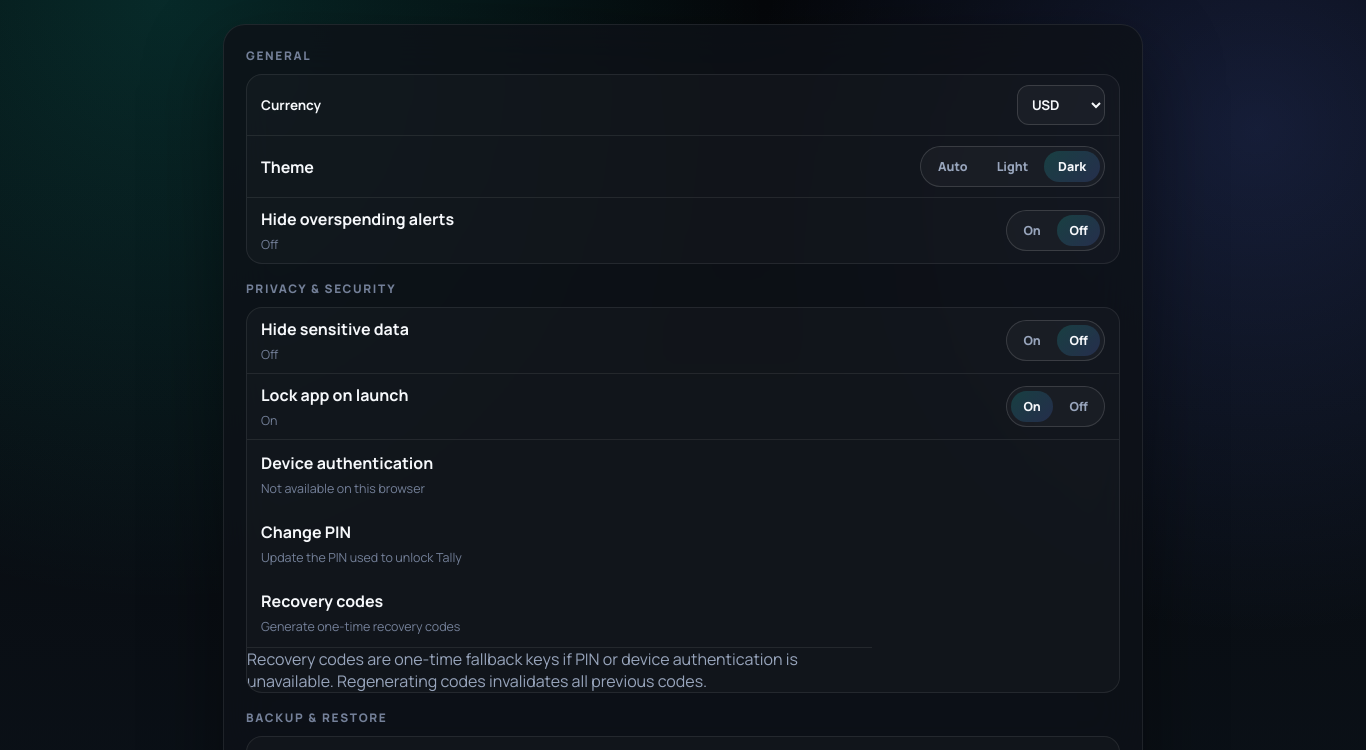
Test: SettingsScreen direct flows › generates recovery codes and requires save confirmation before dismiss
Click the button "Recovery codes Generate one-time recovery codes".
click(322, 601)  # box x1=247 y1=578 x2=1119 y2=647
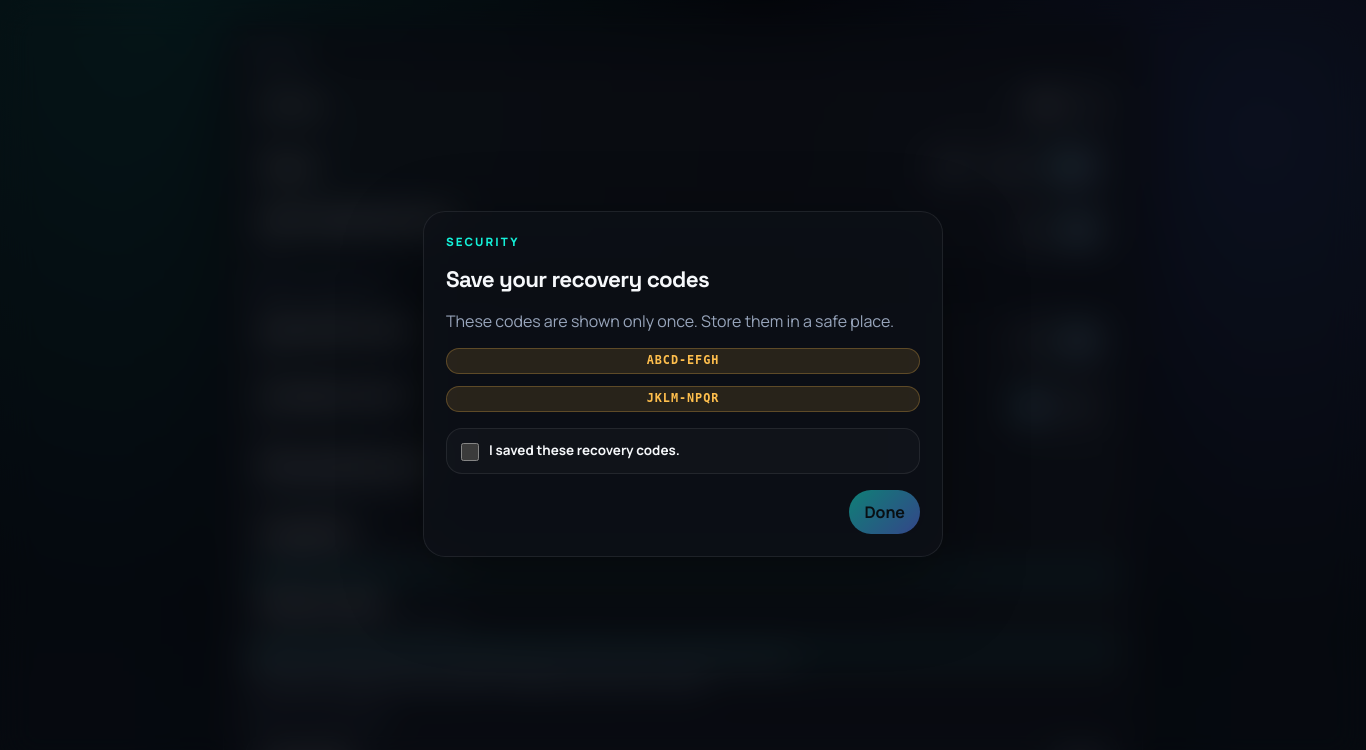
Expected: the text "ABCD-EFGH" is shown, x1=446 y1=348 x2=920 y2=374
Expected: the button "Done" is disabled, x1=849 y1=490 x2=920 y2=534
Click the checkbox labelled "I saved these recovery codes.".
click(470, 452)  # box x1=461 y1=443 x2=479 y2=461
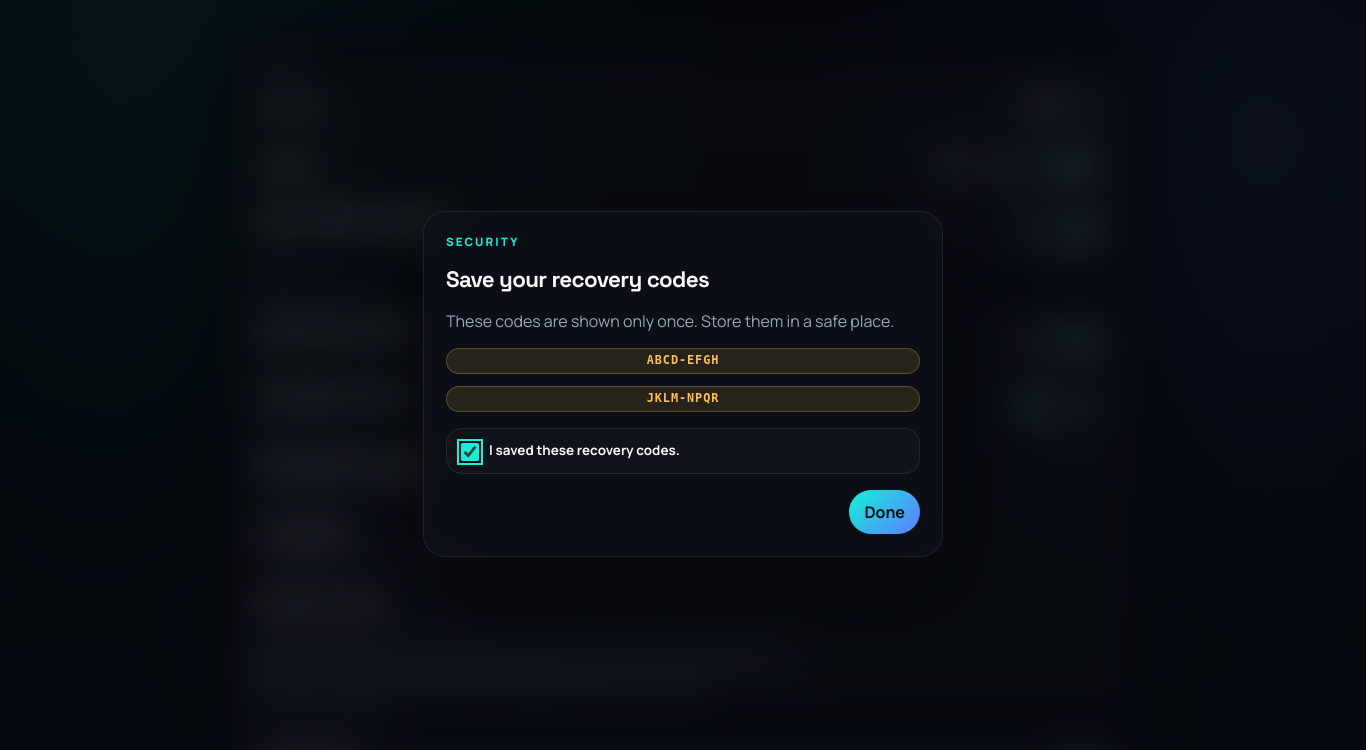
Expected: the button "Done" is enabled, x1=849 y1=490 x2=920 y2=534
